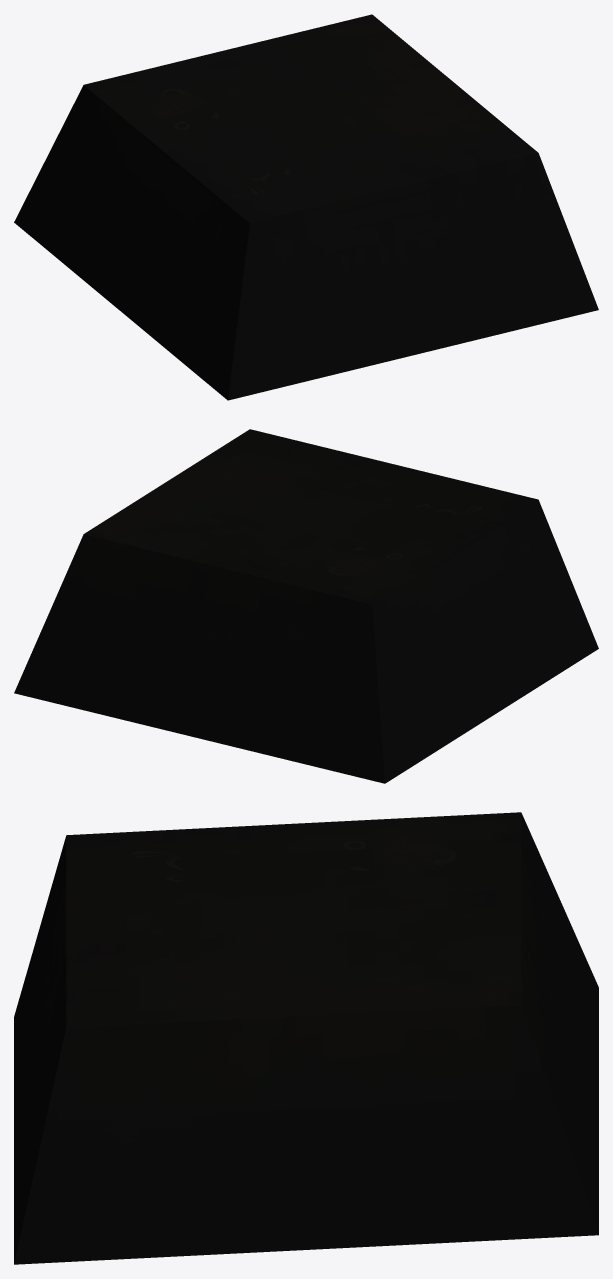
File: link_48__key-54.glb
The picture shows the model from 3 angles, top to bottom: view 1: azimuth 30°, elevation 25°; view 2: azimuth 150°, elevation 25°; view 3: azimuth 270°, elevation 25°; orthographic projection. The views are drawn at different scales.
Parts seen in each view (by area): view 1: world; view 2: world; view 3: world.
Boxes of the visible parts, left/top/right/bottom form: world: left=14, top=14, right=598, bottom=400; world: left=14, top=429, right=598, bottom=783; world: left=14, top=812, right=598, bottom=1264.
Bounding box in the file's own units: 0.0719 × 0.0315 × 0.0718.
1 material, 1 textured.
